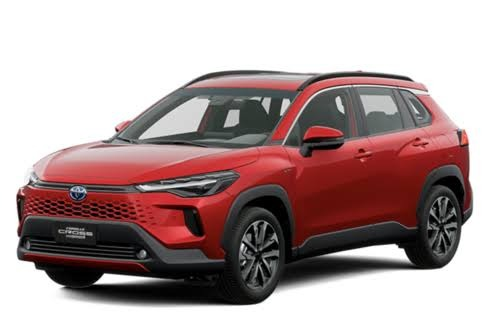car: (13, 61, 471, 295)
